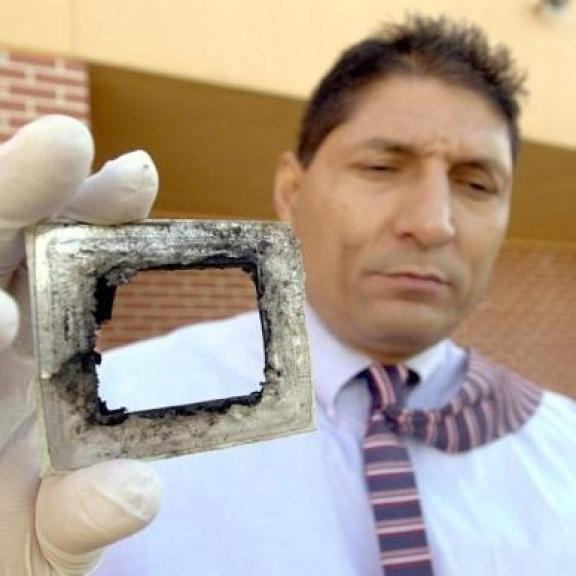face: (270, 25, 522, 354)
